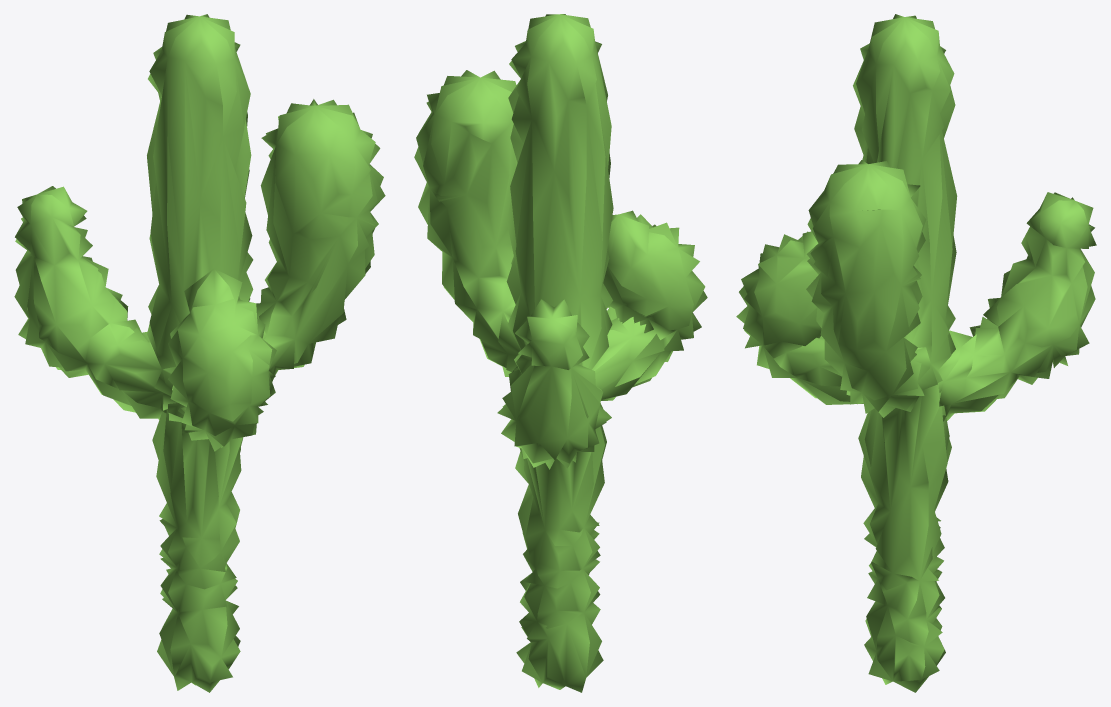
File: GUPO_Cact_001.fbx
3 renders of one model, left to right at view 1: azimuth 30°, elevation 25°; view 2: azimuth 150°, elevation 25°; view 3: azimuth 270°, elevation 25°, orthographic.
Visible parts, largest first — view 1: Object_1; view 2: Object_1; view 3: Object_1.
Part boxes in pixels (<box>): Object_1: <box>14,14,385,692</box>; Object_1: <box>414,14,707,692</box>; Object_1: <box>736,14,1096,692</box>.
Size of the model in its own units: 94.06 by 112 by 229.
